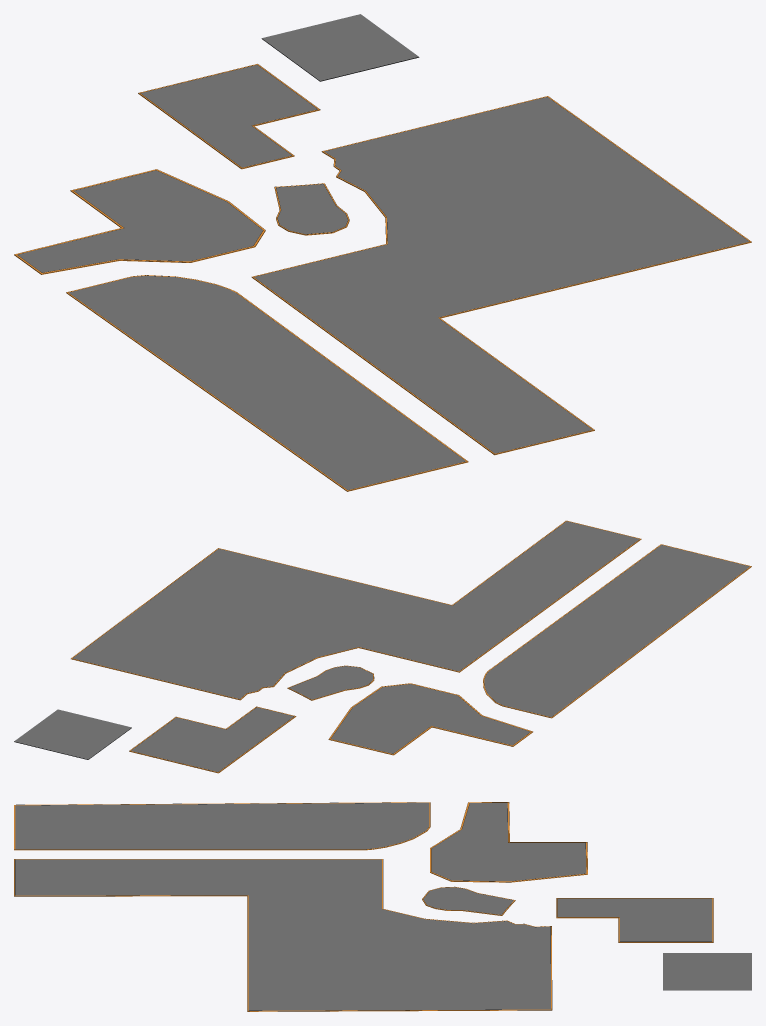
The model's file is Acera.fbx.
3 renders of one model, top to bottom at view 1: azimuth 30°, elevation 25°; view 2: azimuth 150°, elevation 25°; view 3: azimuth 270°, elevation 25°, orthographic. The views are drawn at different scales.
Parts seen in each view (by area): view 1: Acera; view 2: Acera; view 3: Acera.
Boxes of the visible parts, bbox=[...] form: Acera: bbox=[14, 14, 751, 491]; Acera: bbox=[14, 520, 751, 773]; Acera: bbox=[14, 802, 751, 1011].
Size of the model in its own units: 86.99 by 0.2 by 129.
